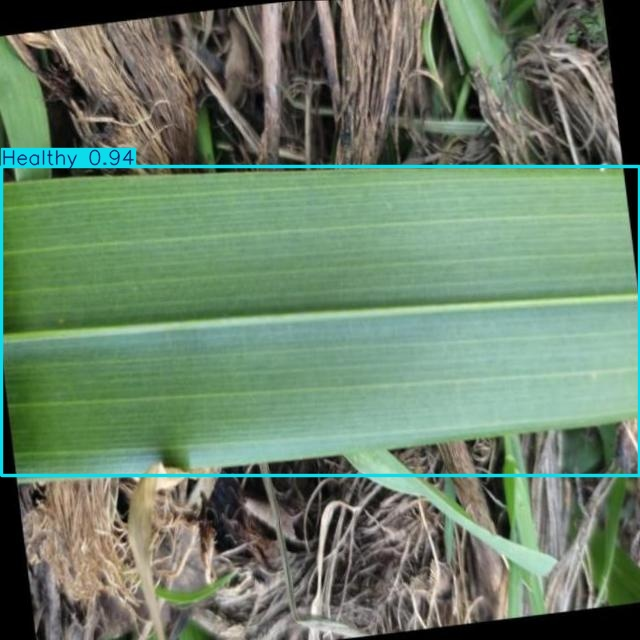Healthy: (1, 166, 639, 476)
